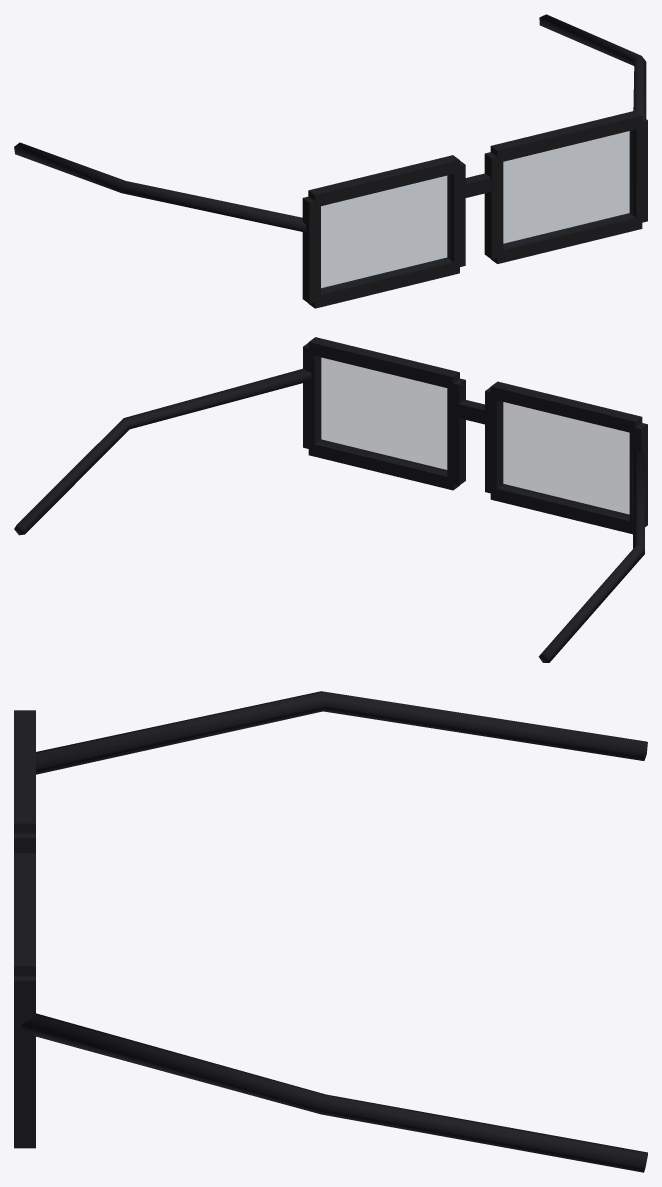
File: square_glasses.glb
3 renders of one model, top to bottom at view 1: azimuth 30°, elevation 25°; view 2: azimuth 150°, elevation 25°; view 3: azimuth 270°, elevation 25°, orthographic. The views are drawn at different scales.
Visible parts, largest first — view 1: square_glasses; view 2: square_glasses; view 3: square_glasses.
Boxes of the visible parts, bbox=[...] form: square_glasses: bbox=[14, 14, 647, 308]; square_glasses: bbox=[14, 337, 647, 662]; square_glasses: bbox=[14, 691, 647, 1172].
Size of the model in its own units: 0.2001 by 0.0404 by 0.1276.
